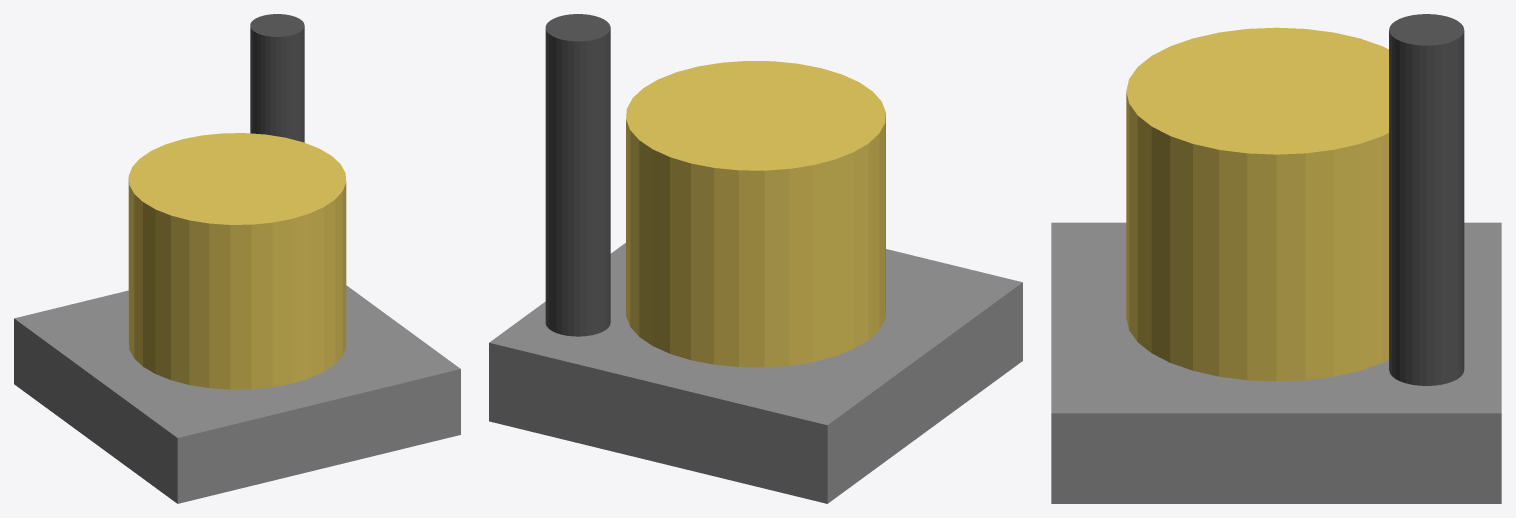
Rendered from generator_1x1.glb.
The picture shows the model from 3 angles, left to right: view 1: azimuth 30°, elevation 25°; view 2: azimuth 150°, elevation 25°; view 3: azimuth 270°, elevation 25°; orthographic projection. The views are drawn at different scales.
Visible parts, largest first — view 1: Cylinder, Cube, Cylinder.001; view 2: Cylinder, Cube, Cylinder.001; view 3: Cylinder, Cube, Cylinder.001.
Boxes of the visible parts, x1,y1,x2,y2 form: Cylinder: (128,133,346,389); Cube: (14,285,460,503); Cylinder.001: (250,14,304,142); Cylinder: (626,61,885,367); Cube: (489,243,1022,503); Cylinder.001: (545,14,610,336); Cylinder: (1126,27,1388,381); Cube: (1051,222,1501,503); Cylinder.001: (1389,14,1464,385).
Bounding box in the file's own units: 1.8 × 1.95 × 1.8.
